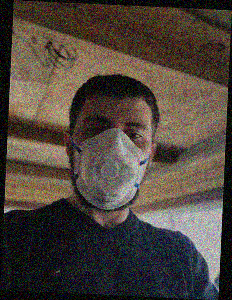with_mask: (70, 109, 150, 212)
